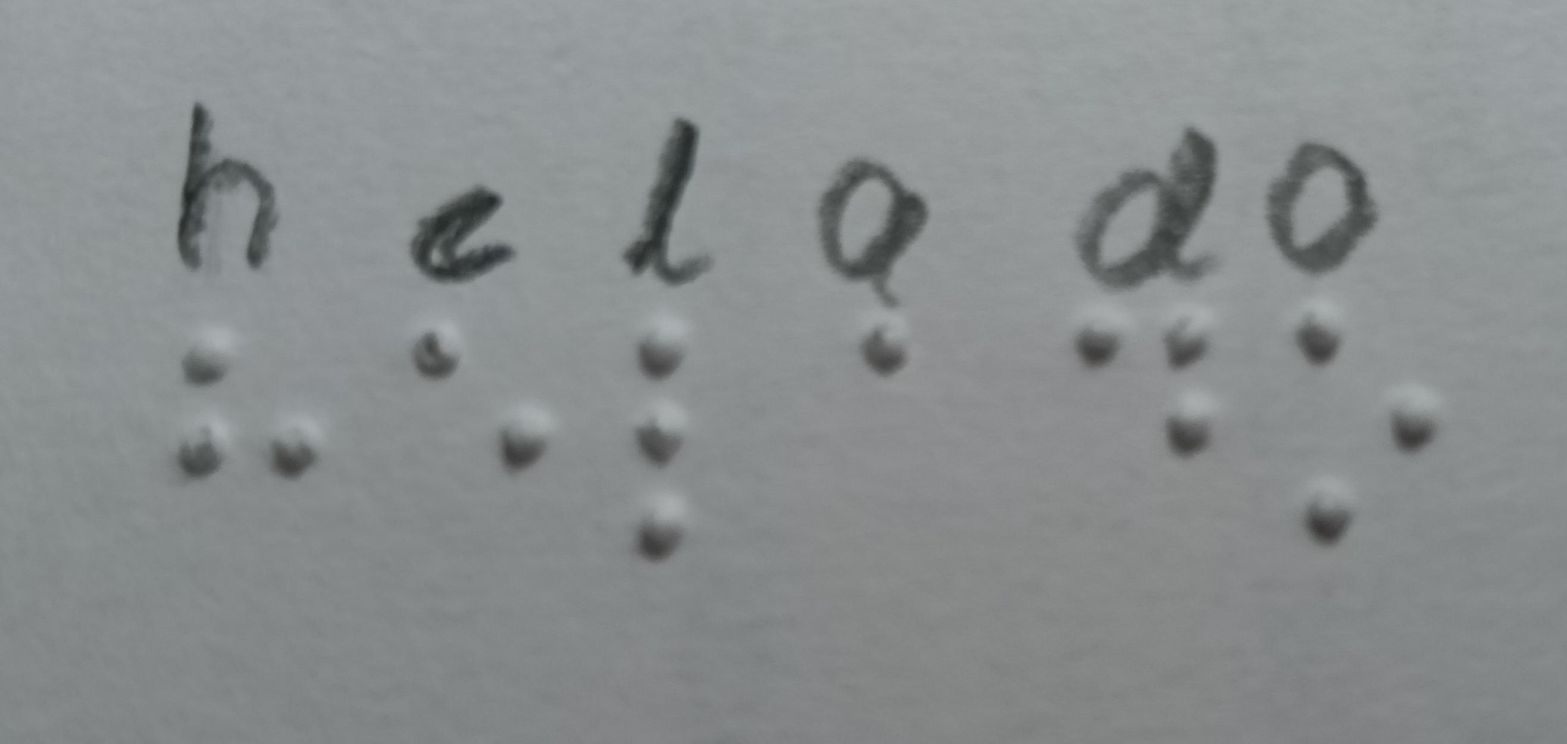a: (792, 292, 976, 399)
d: (1051, 296, 1242, 470)
e: (395, 296, 565, 502)
h: (161, 296, 331, 518)
l: (603, 296, 724, 573)
o: (1260, 284, 1462, 569)
